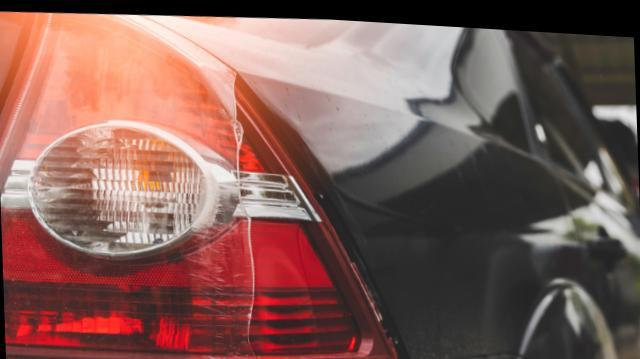lamp broken: (0, 11, 403, 359)
